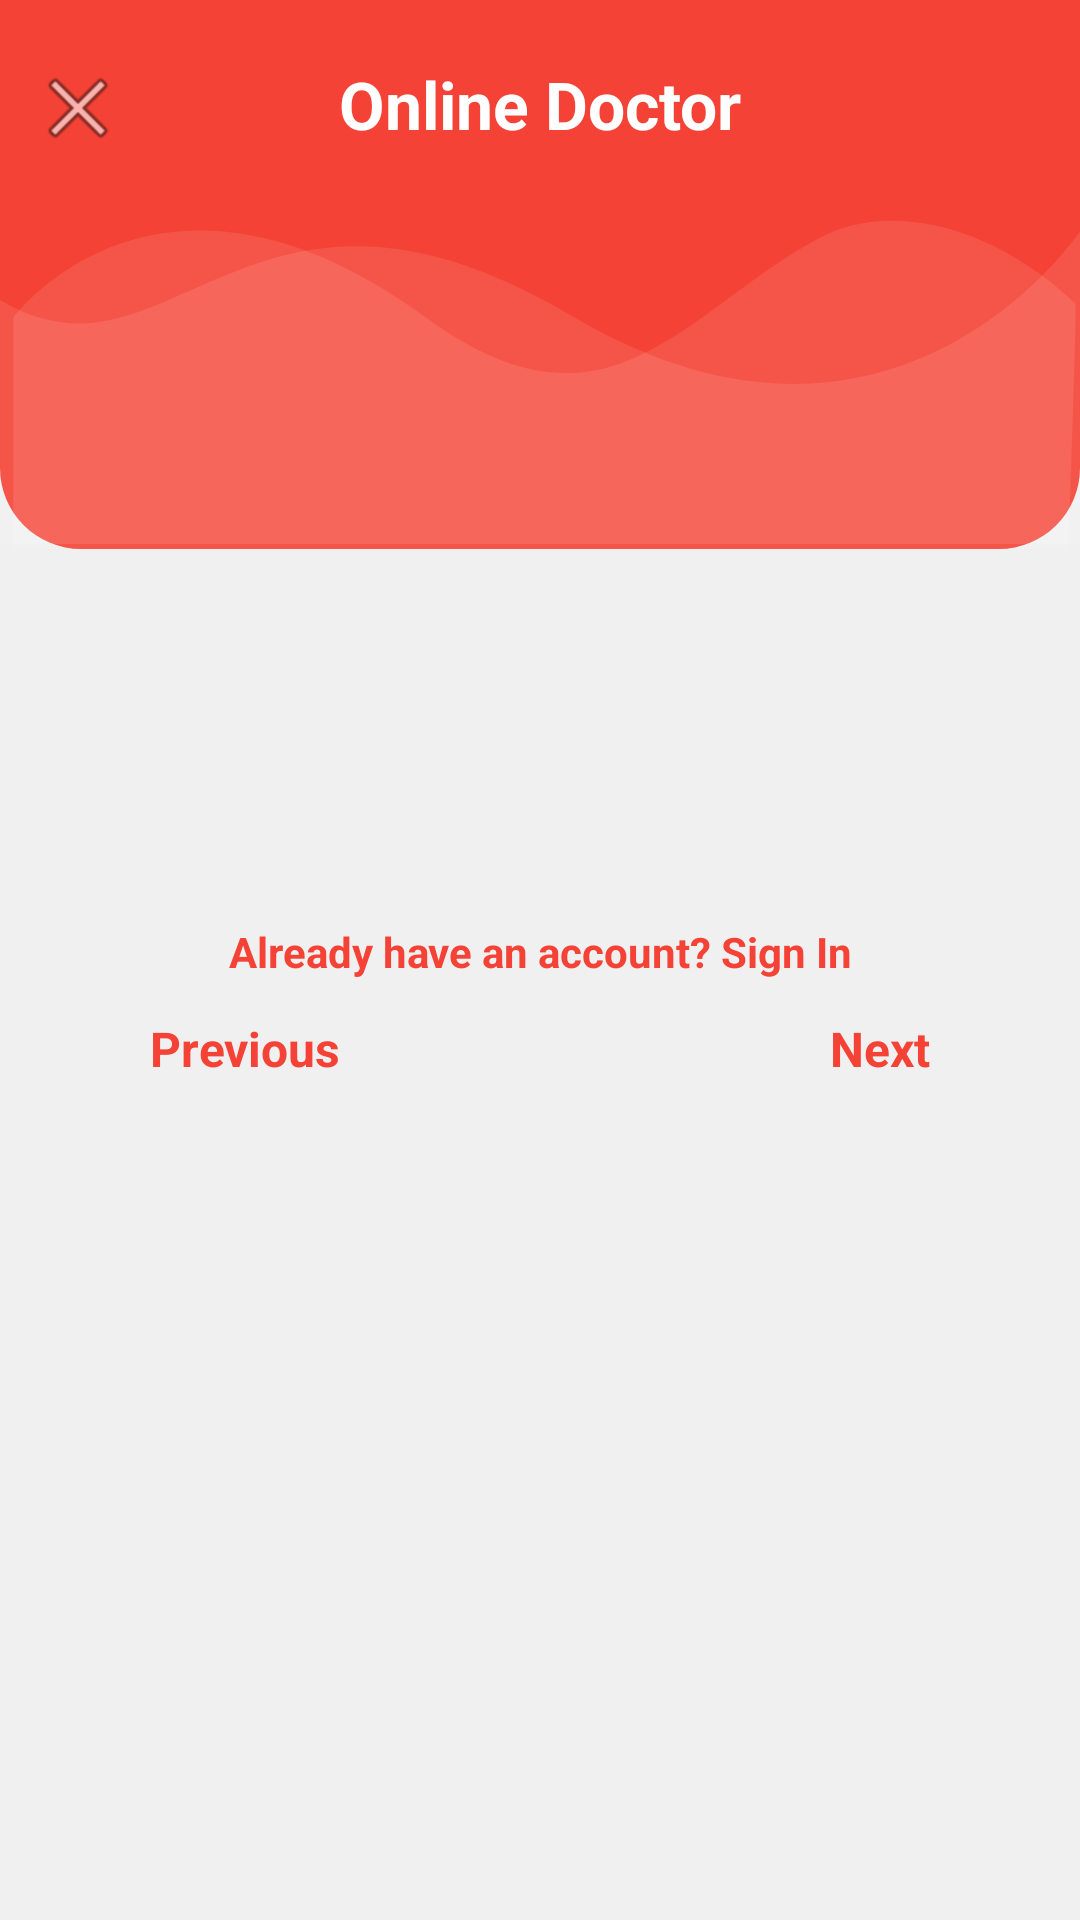

Named icons in this screenshot (1080 × 1920) and their centers, point (x, y):
close clear cancel: point (78, 108)
